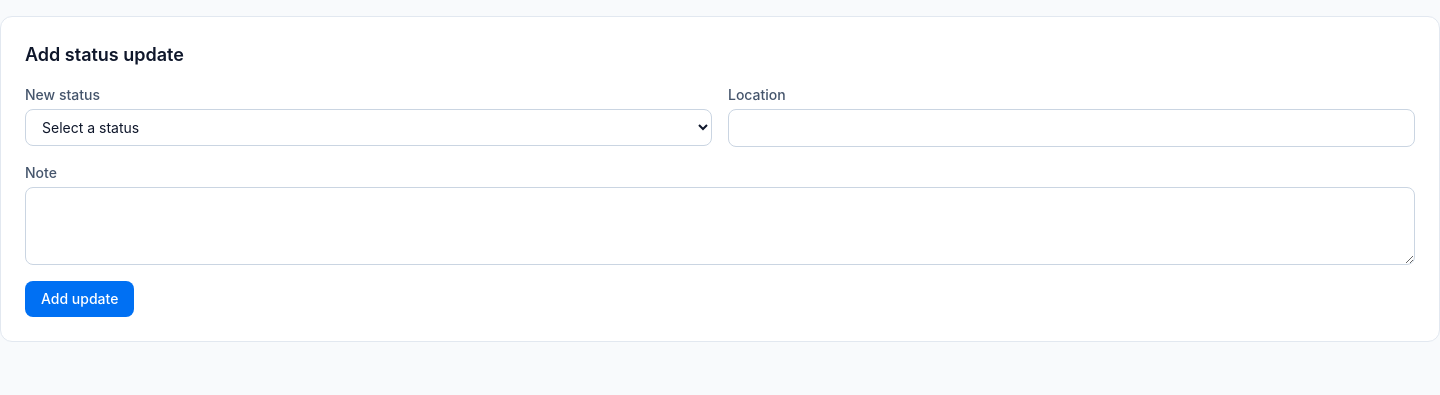
Scenario: StatusUpdateForm › posts the update without empty fields or occurredAt, then resets and confirms
Step 1. Select "At warehouse" in the dropdown labelled "New status" → (368, 128), box [25,109,712,146]
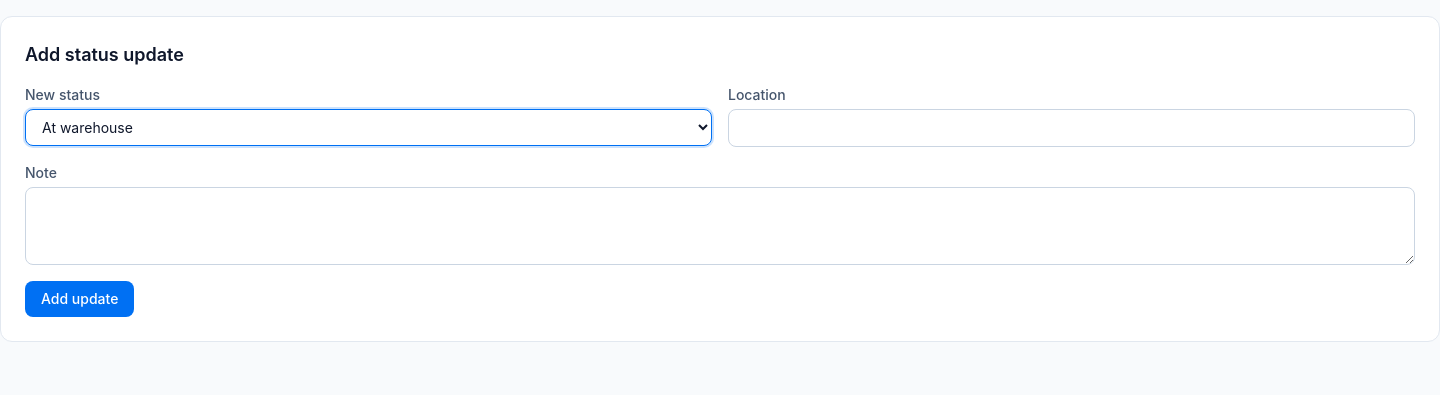
Step 2. Type "  Kharkiv hub " into the field labelled "Location" → (1072, 128), box [728,109,1415,147]
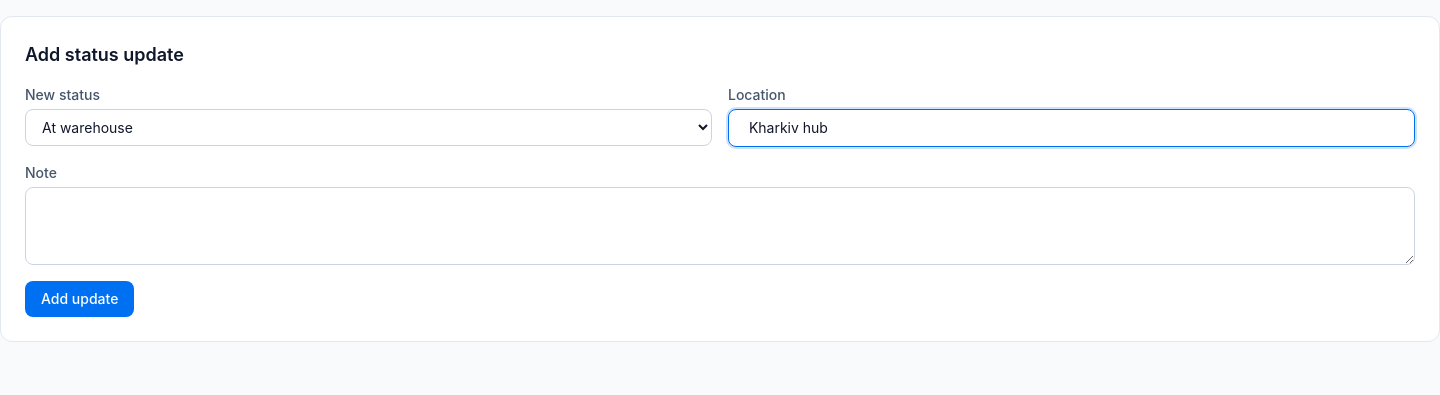
Step 3. Click the button "Add update" → (80, 299), box [25,281,134,317]
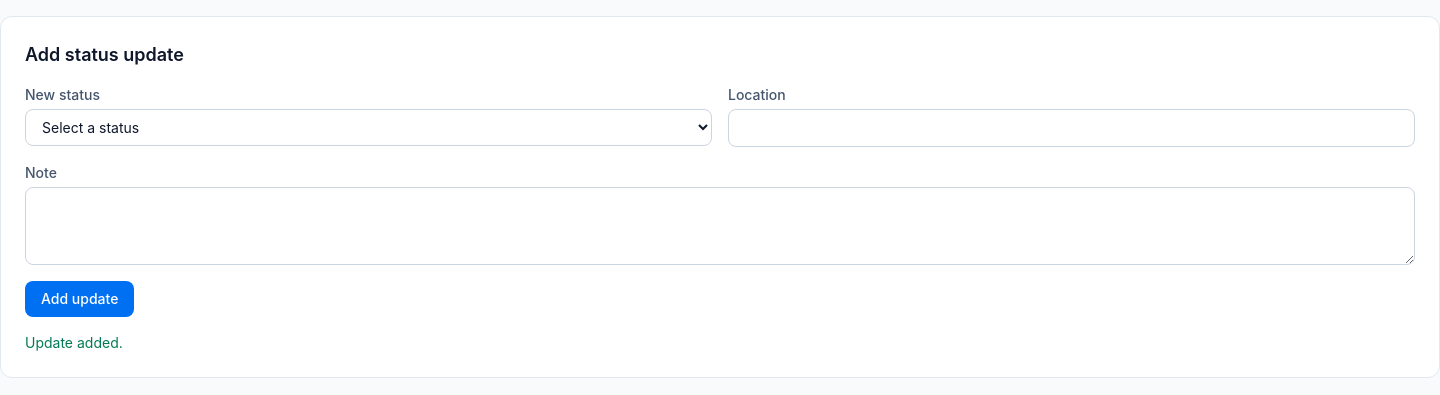
Result: the message reads "Update added." at [25,334,123,351]
Result: the field labelled "Location" is empty at [728,109,1415,147]
